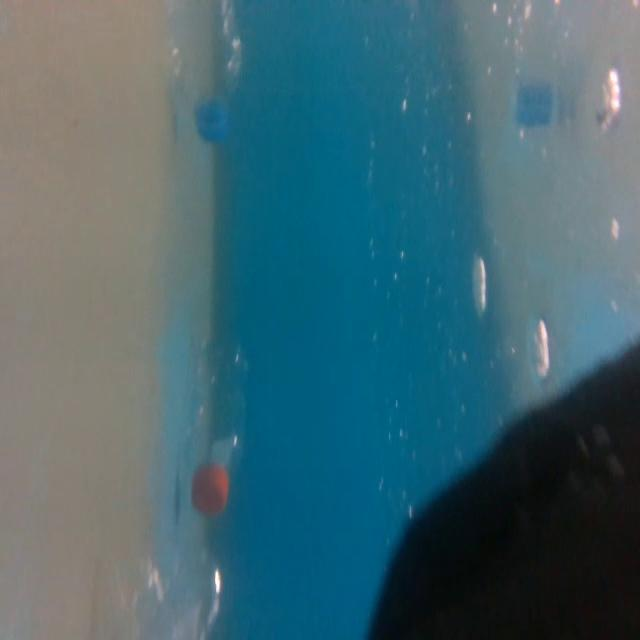plastic bags: (361, 324, 640, 640)
plastic bottle: (153, 0, 260, 152), (180, 318, 256, 526), (126, 542, 225, 640)
